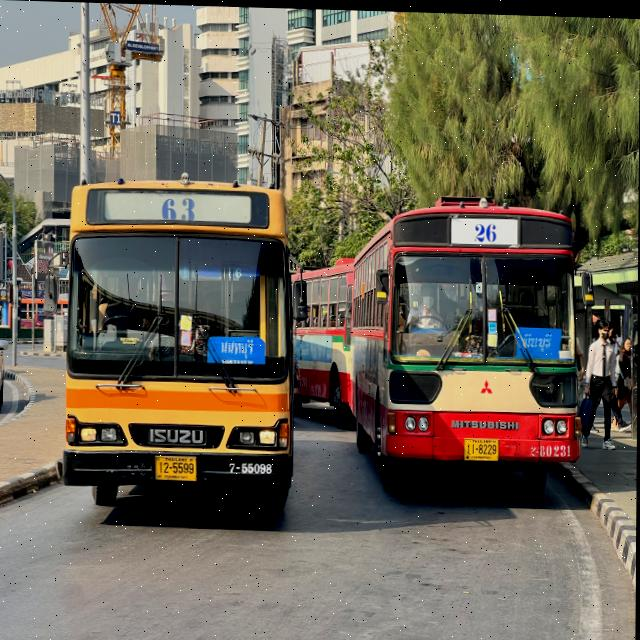BMTA-bus: (59, 179, 297, 510), (353, 197, 586, 494), (293, 255, 357, 430)
Bus-Line-Number: (155, 191, 201, 226), (469, 214, 502, 245)
Destination-Sign-Normal: (207, 333, 268, 364), (515, 321, 563, 355)
